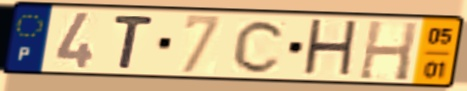4: (53, 9, 96, 72)
7: (179, 12, 226, 76)
C: (229, 18, 289, 76)
H: (355, 18, 421, 84), (299, 17, 361, 81)
T: (110, 13, 157, 72)
